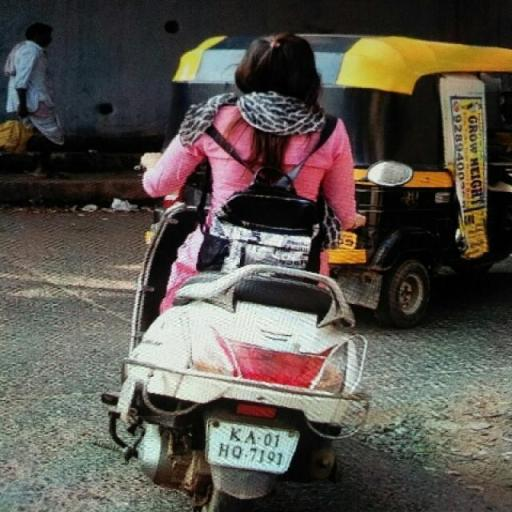bike: (114, 26, 384, 512)
numberplate: (204, 418, 302, 473)
withouthelmet: (240, 33, 318, 97)
